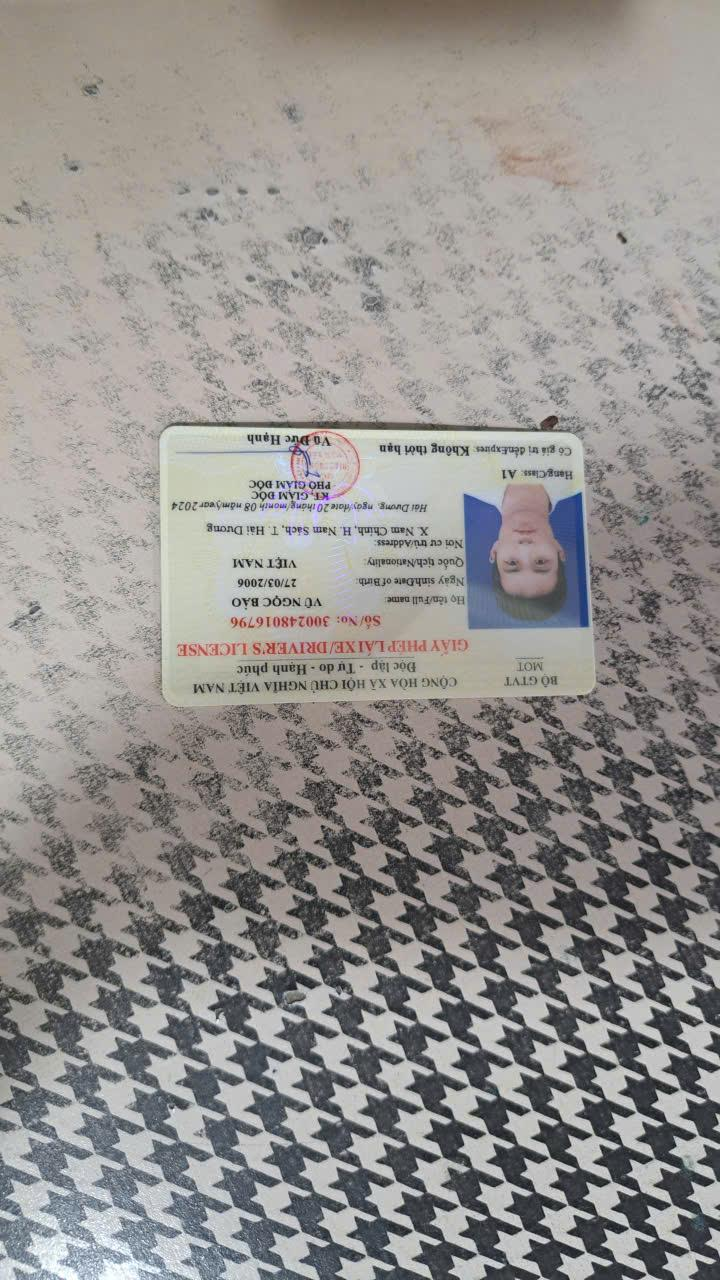gplx: (152, 421, 605, 716)
